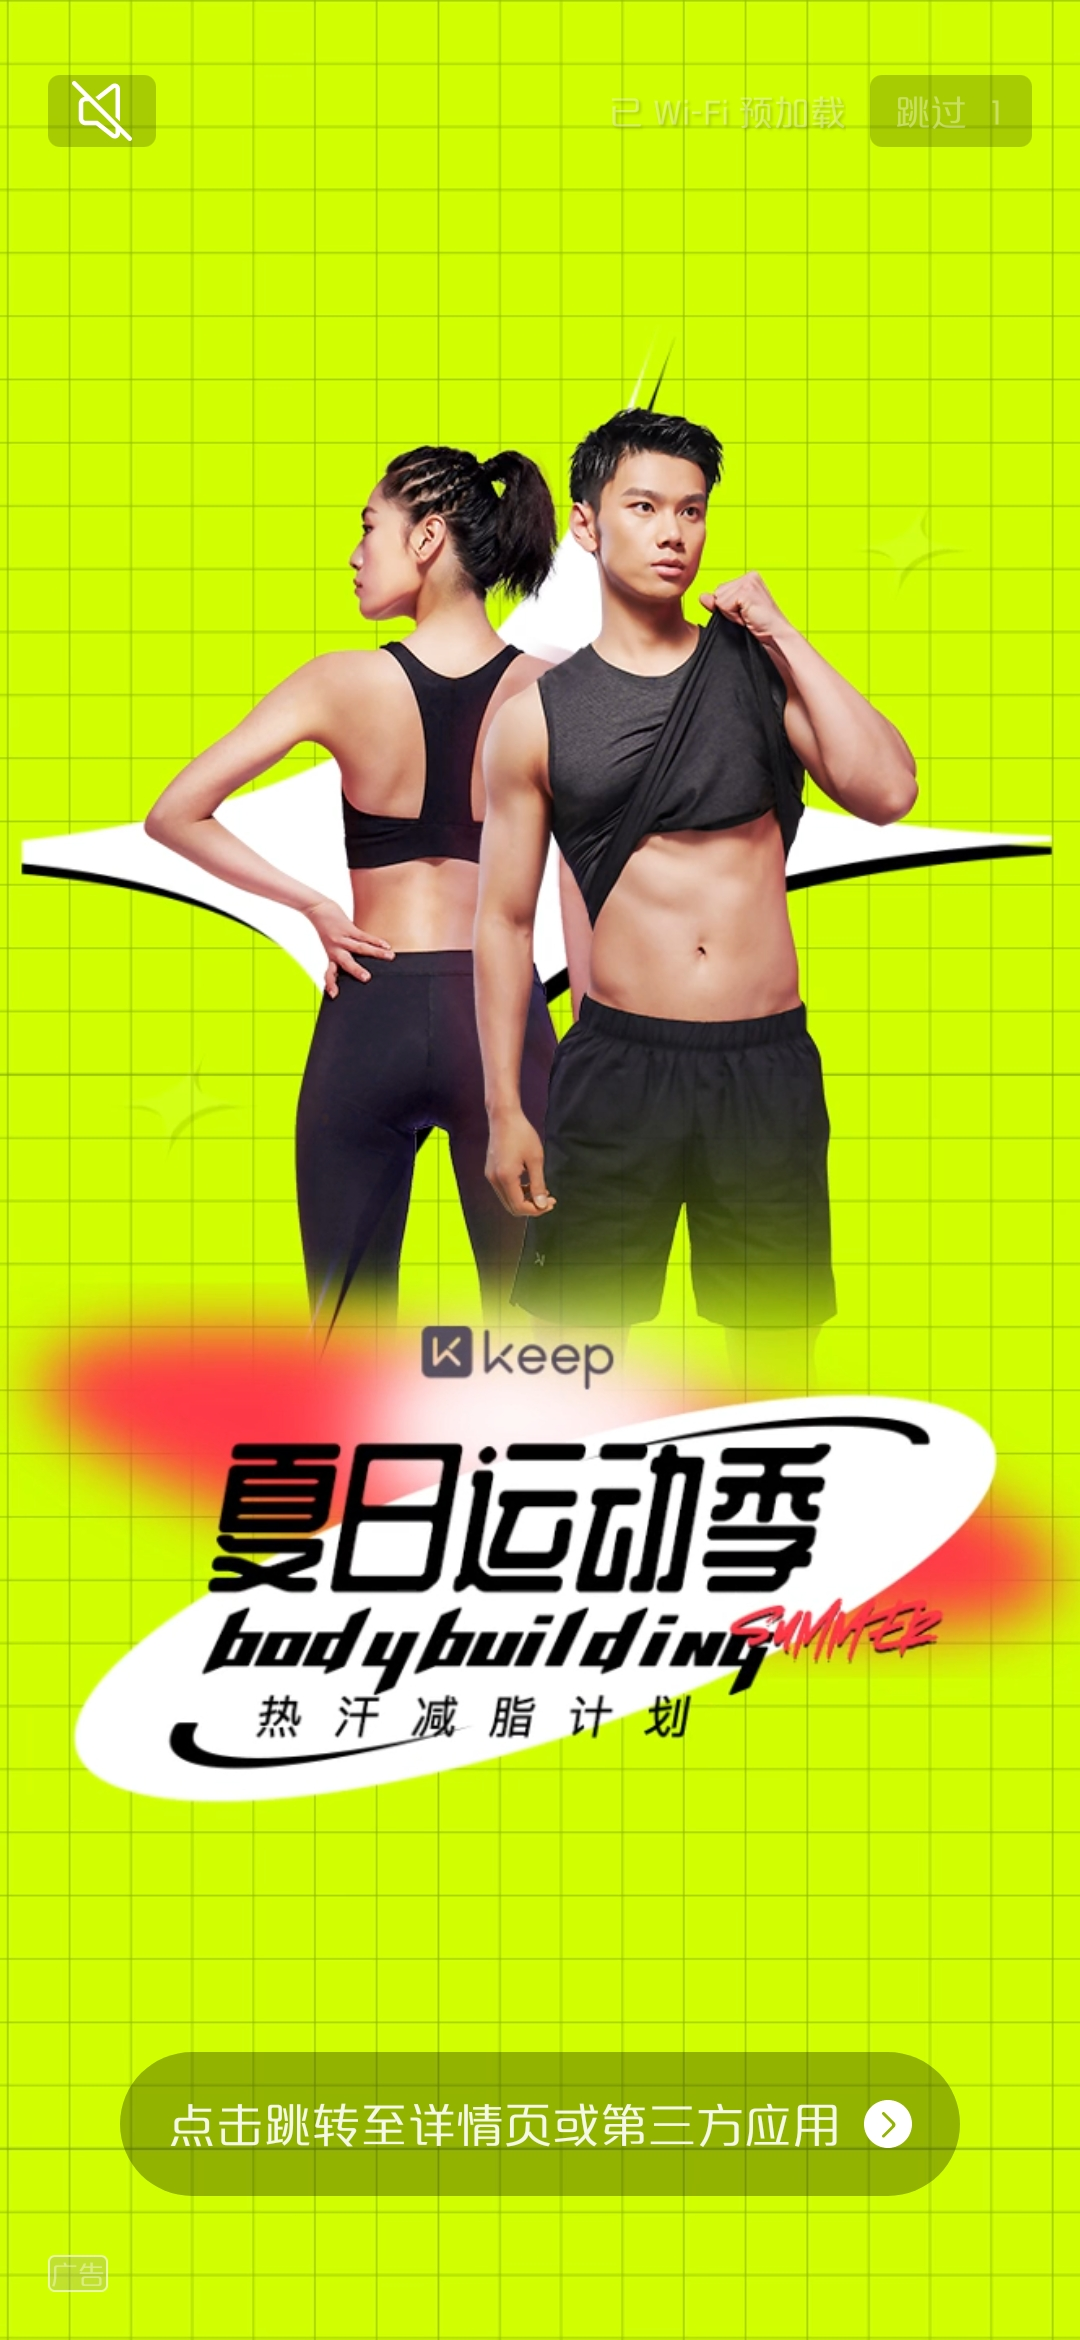skip: (870, 70, 1041, 148)
